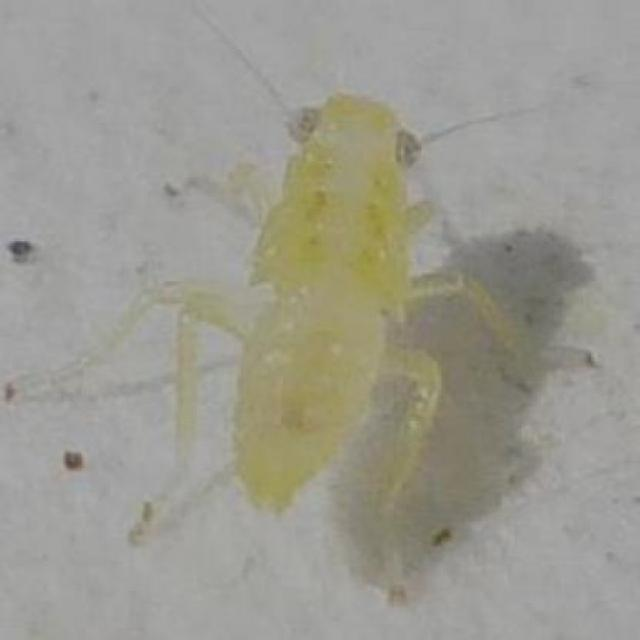green-leafhopper: (223, 75, 439, 517)
